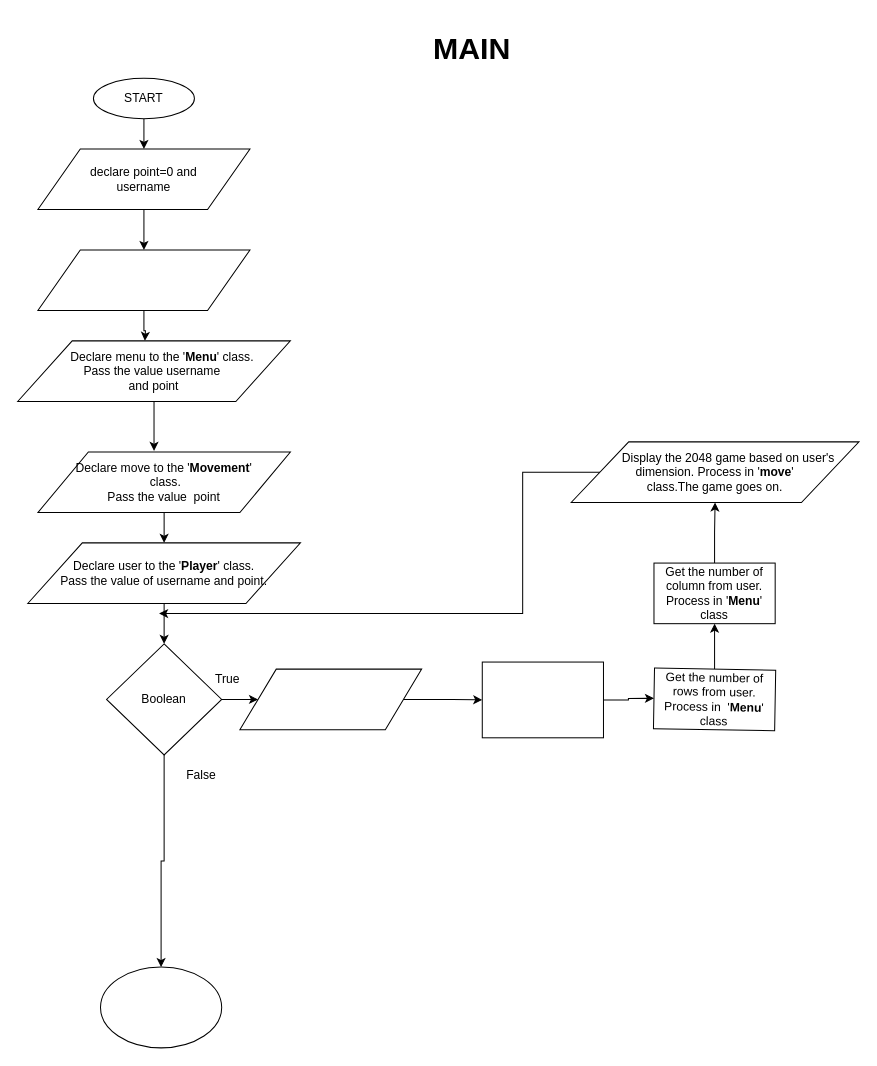
The diagram is 877 pixels wide and 1066 high, and some of its shapes have lost their labels. Here are the shapes that lost their labels. From the top down, the centre of each, then its label:
At [143,280]: "Ask the user to enter the username".
At [330,699]: "Display game selection from 'Menu' class".
At [542,699]: "Save the point to the file name 'highscore.dat' The process in 'Player' class".
At [160,1007]: "End".
